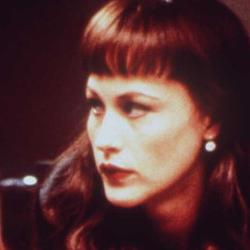face: (27, 1, 247, 230)
